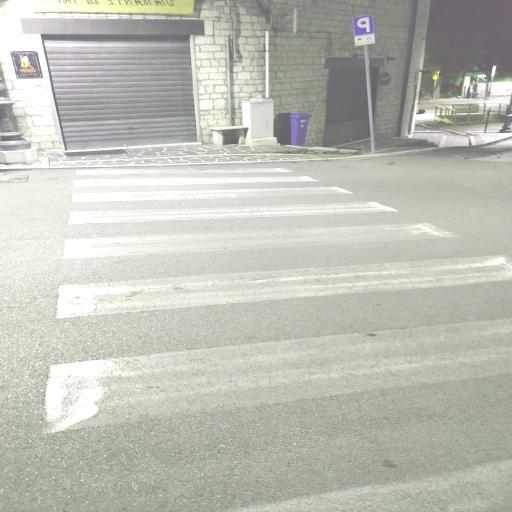crosswalk: (44, 198, 470, 265), (63, 162, 325, 188)
